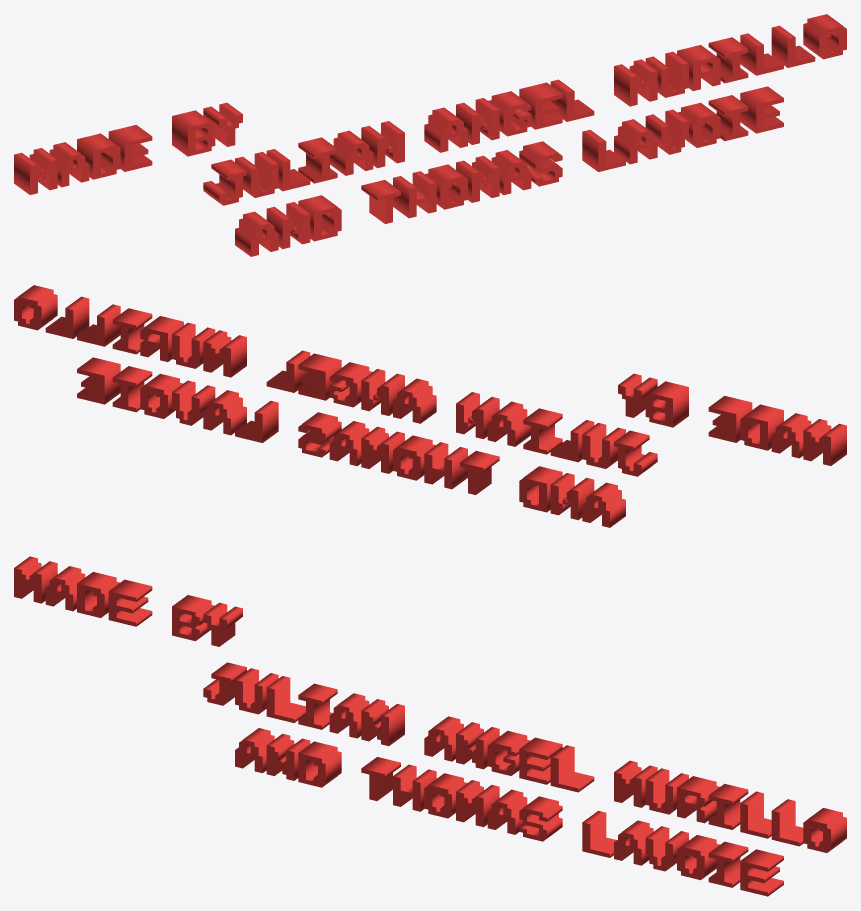
File: about.gltf
3 views of the same model, one above another, from view 1: azimuth 30°, elevation 25°; view 2: azimuth 150°, elevation 25°; view 3: azimuth 330°, elevation 25° (orthographic).
Visible parts, largest first — view 1: About_Text; view 2: About_Text; view 3: About_Text.
Part boxes in pixels (x1=…): About_Text: x1=14, y1=14, x2=846, y2=256; About_Text: x1=14, y1=285, x2=846, y2=527; About_Text: x1=14, y1=556, x2=846, y2=896.
Size of the model in its own units: 29.56 by 5 by 1.
